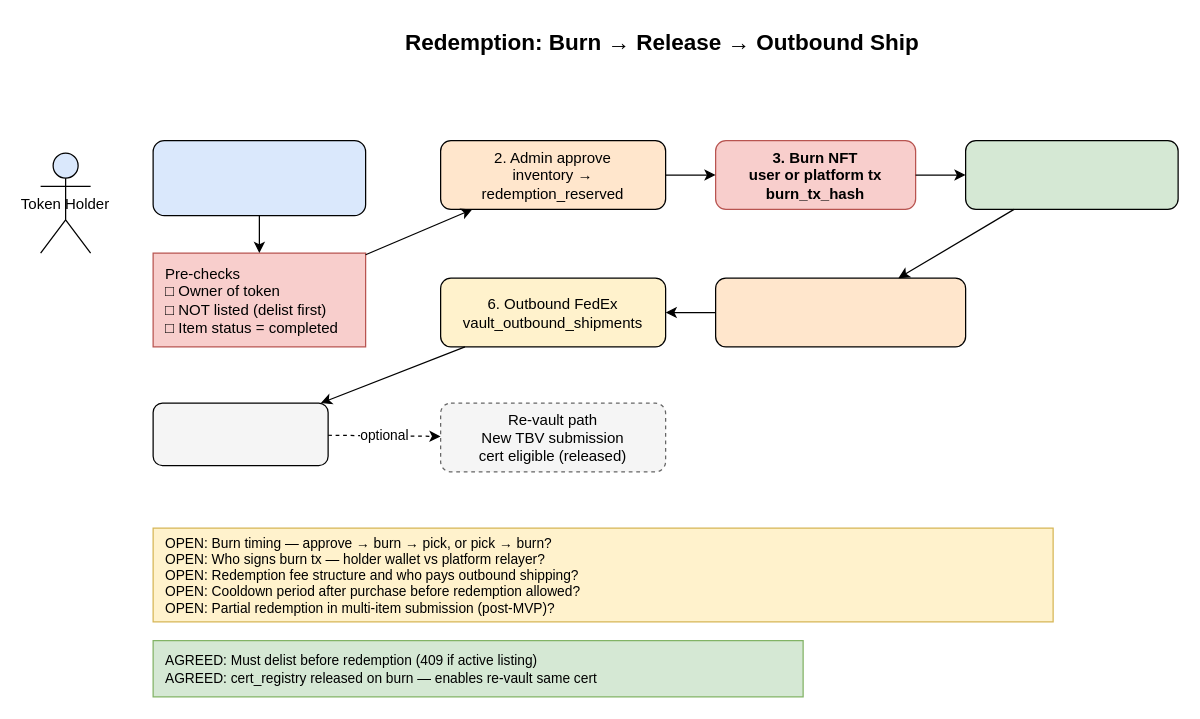
The diagram is 1200 pixels wide and 719 high, and some of its shapes have lost their labels. Each missing label, with the centre of its shape:
"1. Request redemption RDM-{YYYY}-{SEQ} shipping address" goes at pixel 259 177.
"4. cert_registry status → released custody_exit_record" goes at pixel 1071 174.
"5. Physical pick + exit evidence slab photos at ship" goes at pixel 840 312.
"7. redeemed item terminal state" goes at pixel 240 434.
